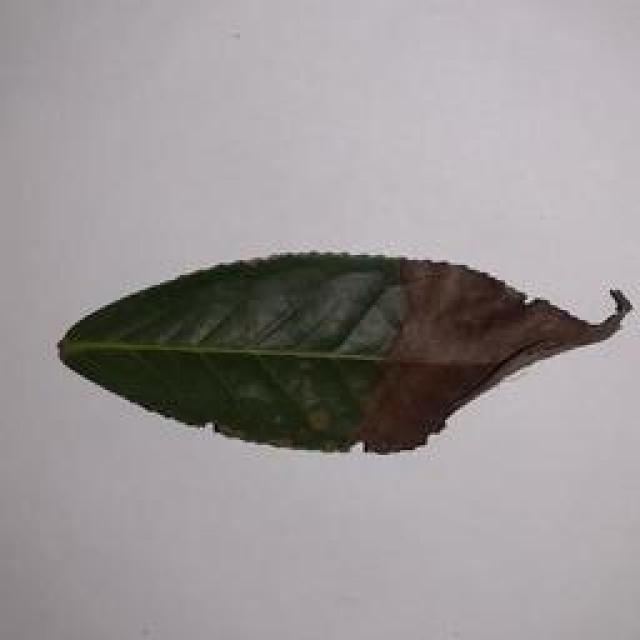Brown Blight: (35, 238, 640, 470)
